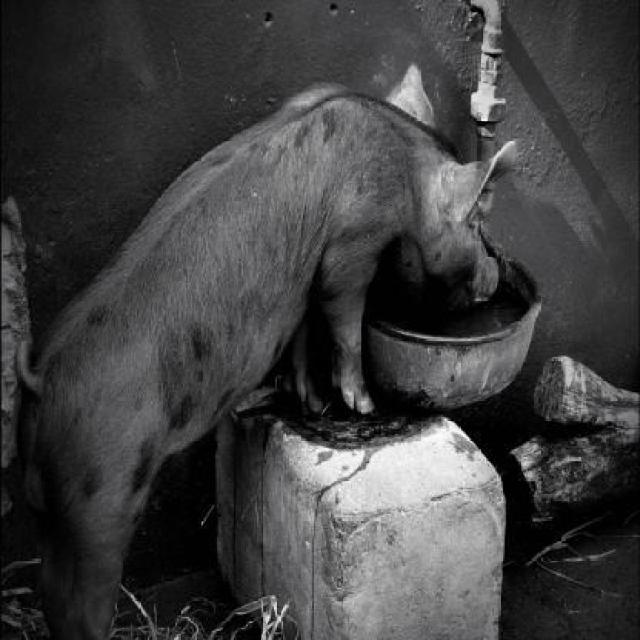Boar: (15, 61, 521, 640)
